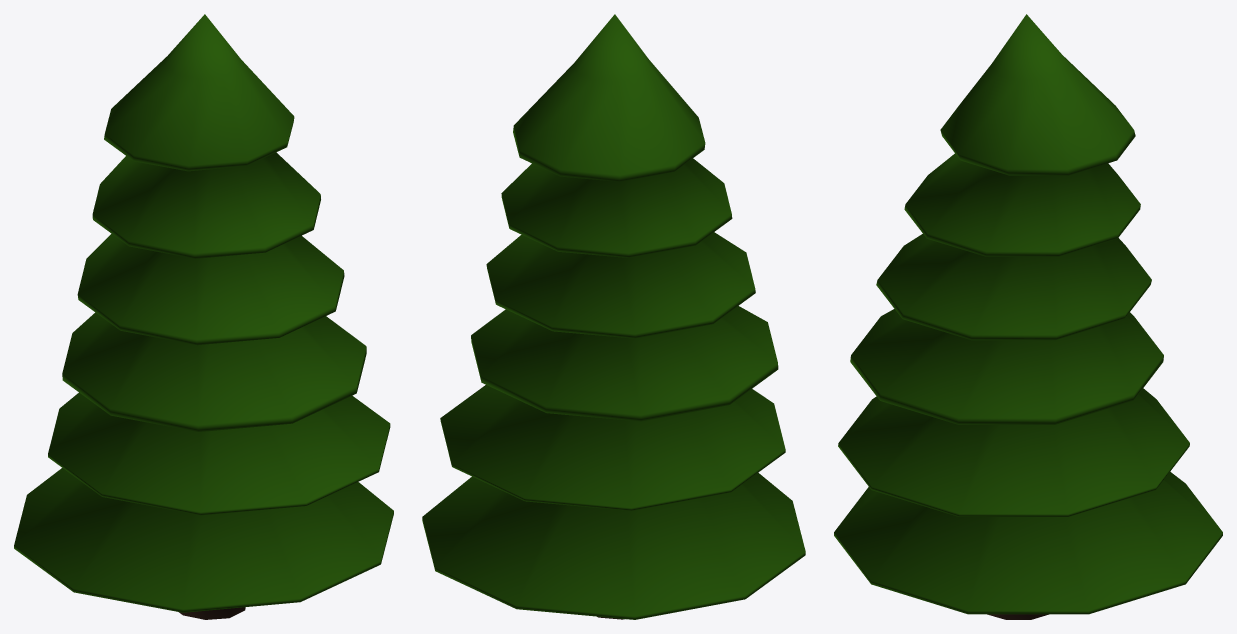
The model's file is Pino_Recto_Verde.fbx.
3 renders of one model, left to right at view 1: azimuth 30°, elevation 25°; view 2: azimuth 150°, elevation 25°; view 3: azimuth 270°, elevation 25°, orthographic.
Parts seen in each view (by area): view 1: Pino recto; view 2: Pino recto; view 3: Pino recto.
Boxes of the visible parts, x1,y1,x2,y2 form: Pino recto: [14, 14, 393, 619]; Pino recto: [422, 14, 805, 619]; Pino recto: [834, 14, 1222, 619].
Size of the model in its own units: 951 by 1664 by 994.
